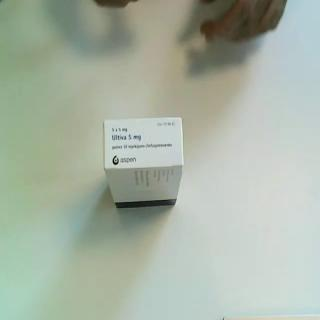ultiva5mg: (102, 116, 187, 210)
